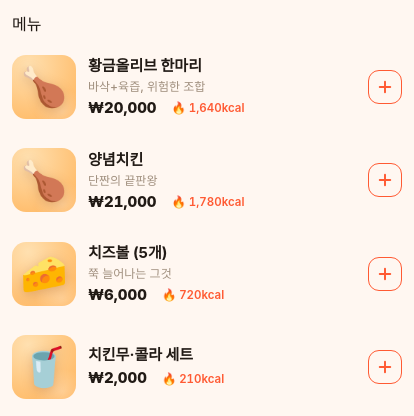
Scenario: StoreMenu — add / qty steppers + CTA (ORDER-03) › clicking + adds the item (qty 1 → 2) and reveals the steppers
The width and height of the screenshot is (414, 416).
Click the button named "황금올리브 한마리 담기": (385, 87) [368,70,402,104]
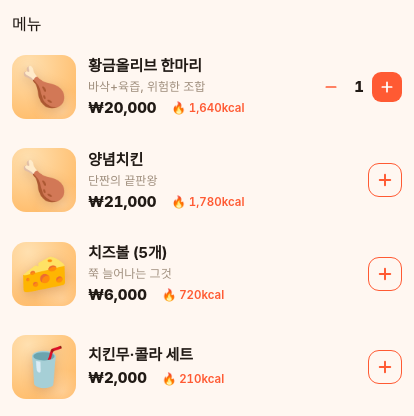
expect the text "1" is shown: met, box [354,77,364,96]
Click the button named "황금올리브 한마리 추가": (387, 87) [372,72,402,102]
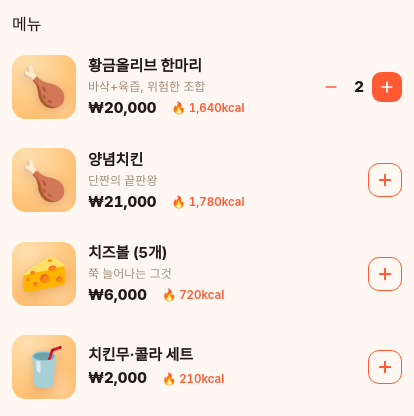
expect the text "2" is shown: met, box [354,77,364,96]
